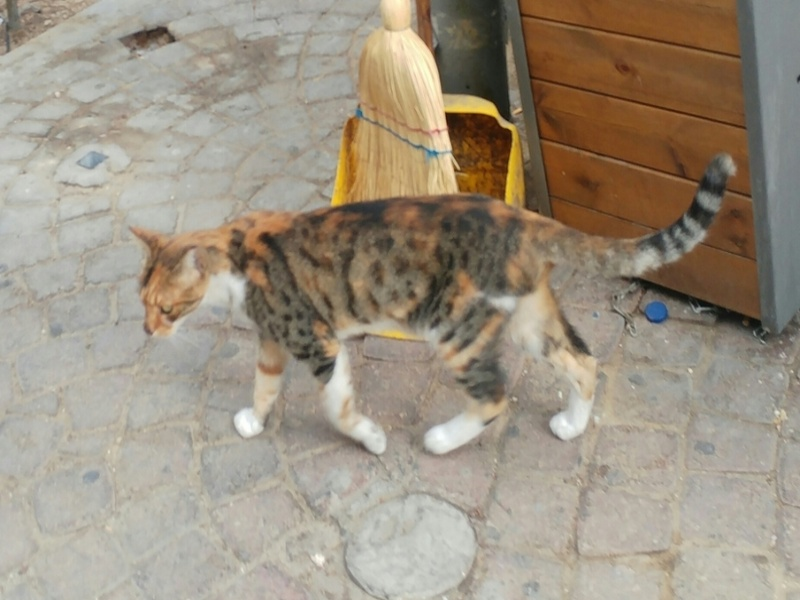cat: (131, 150, 741, 478)
